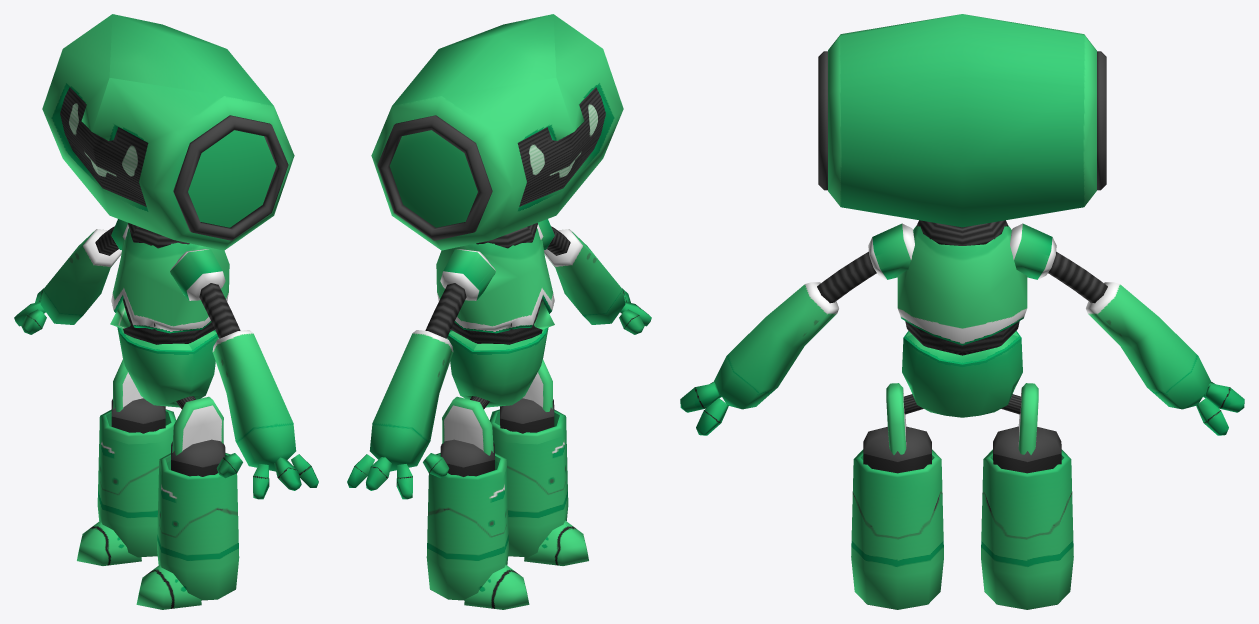
The model's file is robot.fbx.
3 renders of one model, left to right at view 1: azimuth 30°, elevation 25°; view 2: azimuth 150°, elevation 25°; view 3: azimuth 270°, elevation 25°, orthographic. The views are drawn at different scales.
Parts seen in each view (by area): view 1: meshrobot3, meshrobot16, meshrobot9, meshrobot12, meshrobot1, meshrobot4, meshrobot15, meshrobot18, meshrobot17, meshrobot10, meshrobot13, meshrobot7 (+4 smaller); view 2: meshrobot3, meshrobot16, meshrobot9, meshrobot12, meshrobot1, meshrobot4, meshrobot15, meshrobot18, meshrobot17, meshrobot10, meshrobot13, meshrobot7 (+4 smaller); view 3: meshrobot3, meshrobot16, meshrobot9, meshrobot12, meshrobot15, meshrobot17, meshrobot10, meshrobot1, meshrobot18, meshrobot2, meshrobot11, meshrobot14 (+1 smaller).
Boxes of the visible parts, box(x1,y1,x2,y2) form: meshrobot3: box(42, 14, 294, 250); meshrobot16: box(97, 409, 239, 600); meshrobot9: box(111, 228, 229, 407); meshrobot12: box(40, 229, 296, 471); meshrobot1: box(173, 115, 288, 240); meshrobot4: box(77, 520, 201, 609); meshrobot15: box(111, 398, 225, 476); meshrobot18: box(113, 359, 223, 455); meshrobot17: box(111, 219, 225, 300); meshrobot10: box(95, 226, 240, 338); meshrobot13: box(123, 298, 214, 344); meshrobot7: box(21, 309, 242, 478); meshrobot3: box(371, 14, 623, 250); meshrobot16: box(426, 409, 568, 600); meshrobot9: box(436, 228, 554, 407); meshrobot12: box(369, 229, 625, 471); meshrobot1: box(377, 115, 492, 240); meshrobot4: box(464, 520, 588, 609); meshrobot15: box(440, 398, 554, 476); meshrobot18: box(442, 359, 552, 455); meshrobot17: box(440, 219, 554, 300); meshrobot10: box(425, 226, 570, 338); meshrobot13: box(451, 298, 544, 344); meshrobot7: box(423, 309, 644, 478); meshrobot3: box(828, 14, 1096, 227); meshrobot16: box(851, 449, 1073, 609); meshrobot9: box(897, 225, 1027, 417); meshrobot12: box(714, 282, 1210, 409); meshrobot15: box(863, 426, 1061, 473); meshrobot17: box(868, 223, 1056, 279); meshrobot10: box(817, 251, 1107, 303); meshrobot1: box(818, 51, 1106, 190); meshrobot18: box(886, 383, 1038, 454); meshrobot2: box(917, 220, 1007, 245); meshrobot11: box(680, 383, 1244, 412); meshrobot14: box(696, 398, 1228, 435).
Size of the model in its own units: 33.37 by 106 by 93.4.
